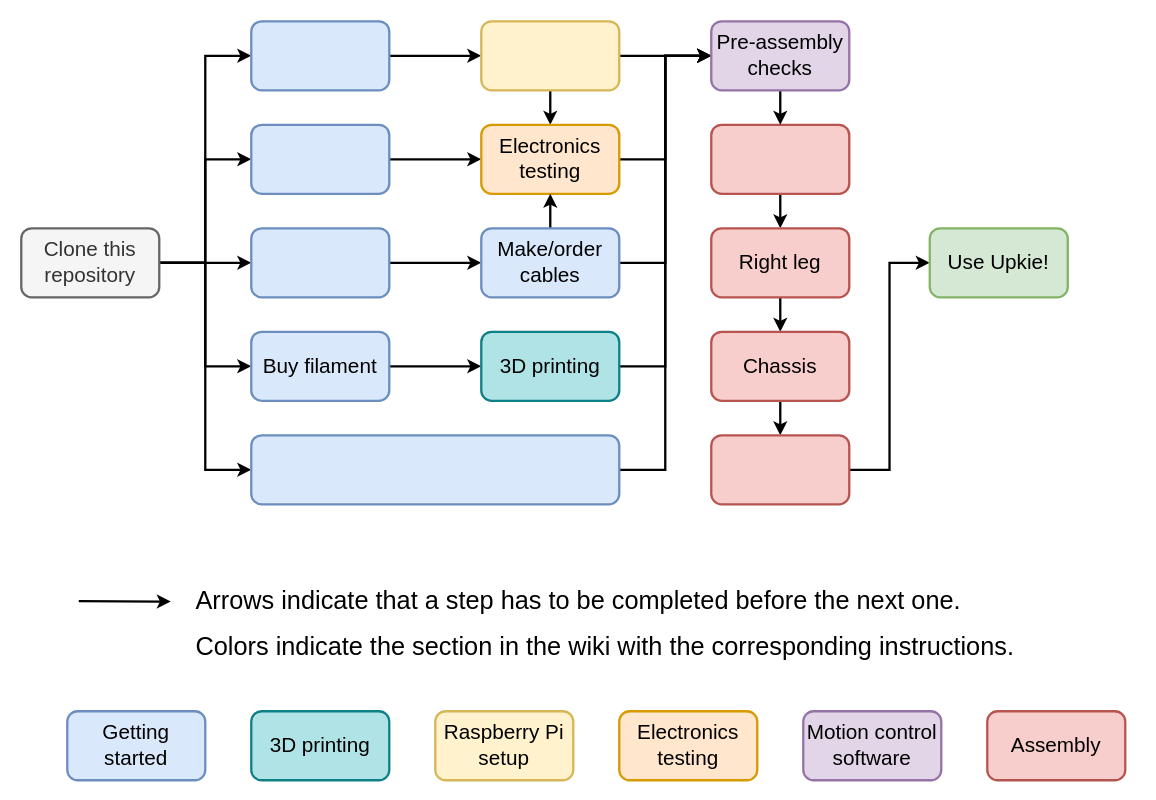
This 1156x800 diagram has some shape labels left out. Each missing label, with the centre of its shape:
"Buy all other tools and parts" goes at pixel 435 469.
"Buy electronics" goes at pixel 320 158.
"Buy Raspberry Pi" goes at pixel 320 55.
"Buy wires" goes at pixel 320 262.
"Final integration" goes at pixel 780 469.
"Install software" goes at pixel 550 55.
"Left leg" goes at pixel 780 158.
